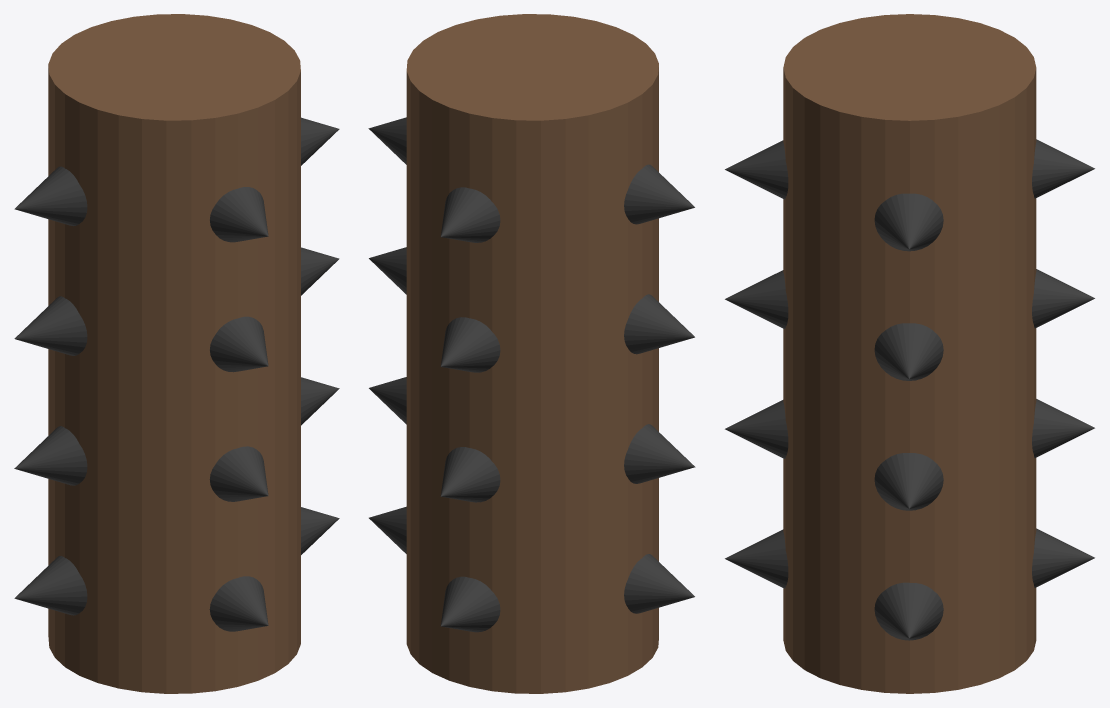
The model's file is Log.fbx.
The picture shows the model from 3 angles, left to right: view 1: azimuth 30°, elevation 25°; view 2: azimuth 150°, elevation 25°; view 3: azimuth 270°, elevation 25°; orthographic projection.
Parts seen in each view (by area): view 1: Cone.001; view 2: Cone.001; view 3: Cone.001.
Part boxes in pixels (x1,y1,x2,y2): Cone.001: (14,14,339,693); Cone.001: (368,14,695,693); Cone.001: (725,14,1094,693).
Bounding box in the file's own units: 119 × 200 × 117.
2 materials, 2 textured.
